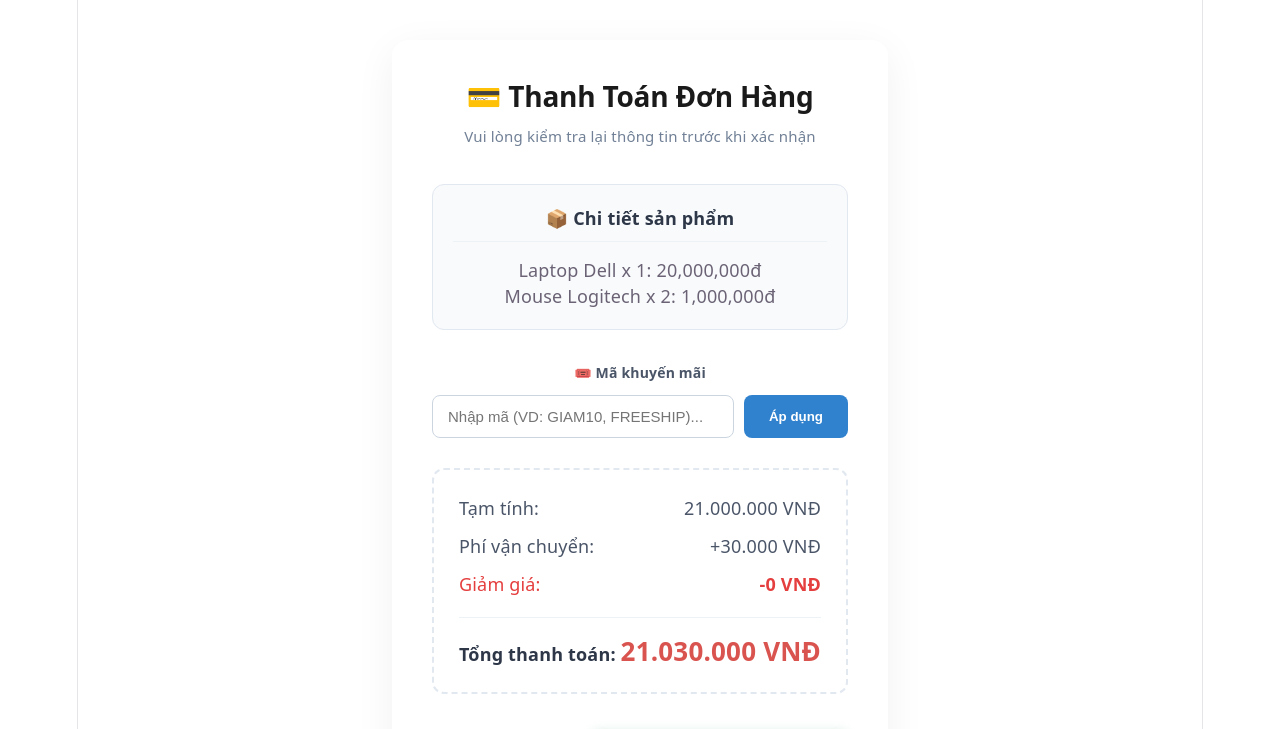
Test case: Checkout Integration Tests › TC8: Xử lý mã giảm giá không hợp lệ
This screenshot has width=1280, height=729.
Type "SAI_MA" into the field with placeholder "Nhập mã (VD: GIAM10, FREESHIP)..." at coordinates (583, 416), box 432,394 -> 734,438
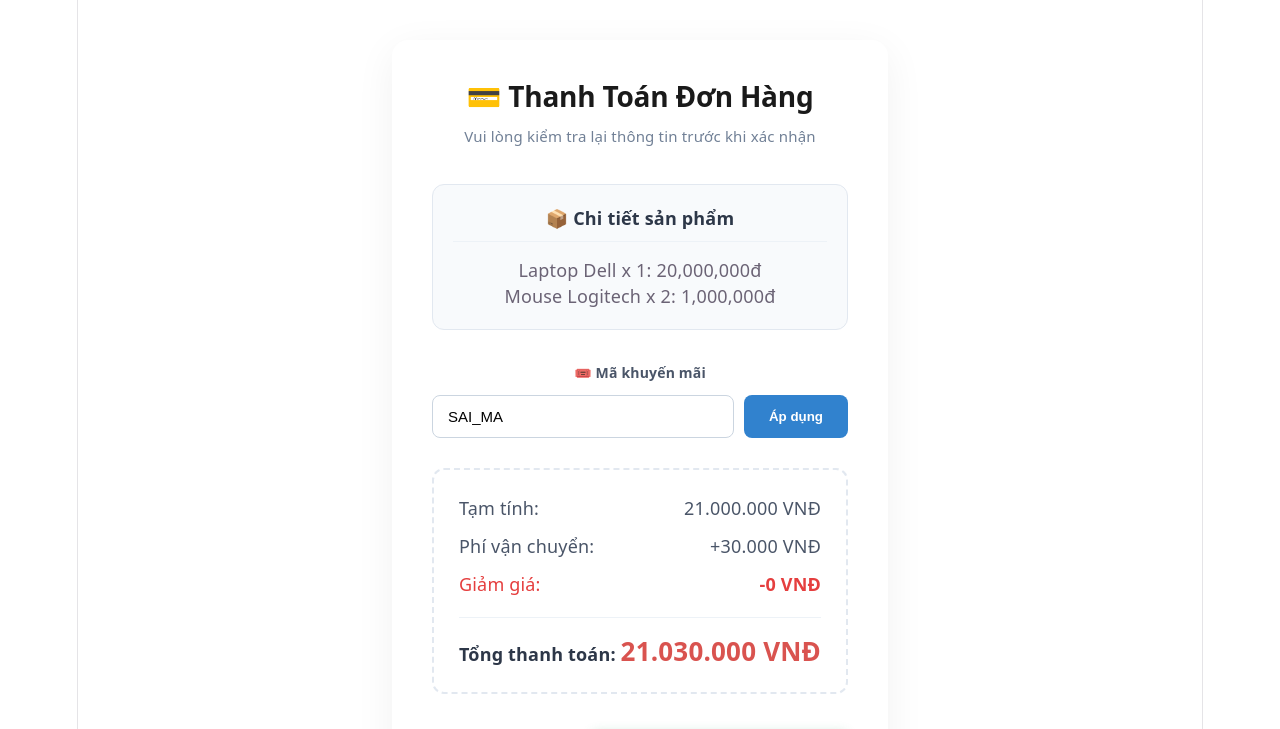
Click the button "Áp dụng" at coordinates (796, 416), box 744,394 -> 848,438
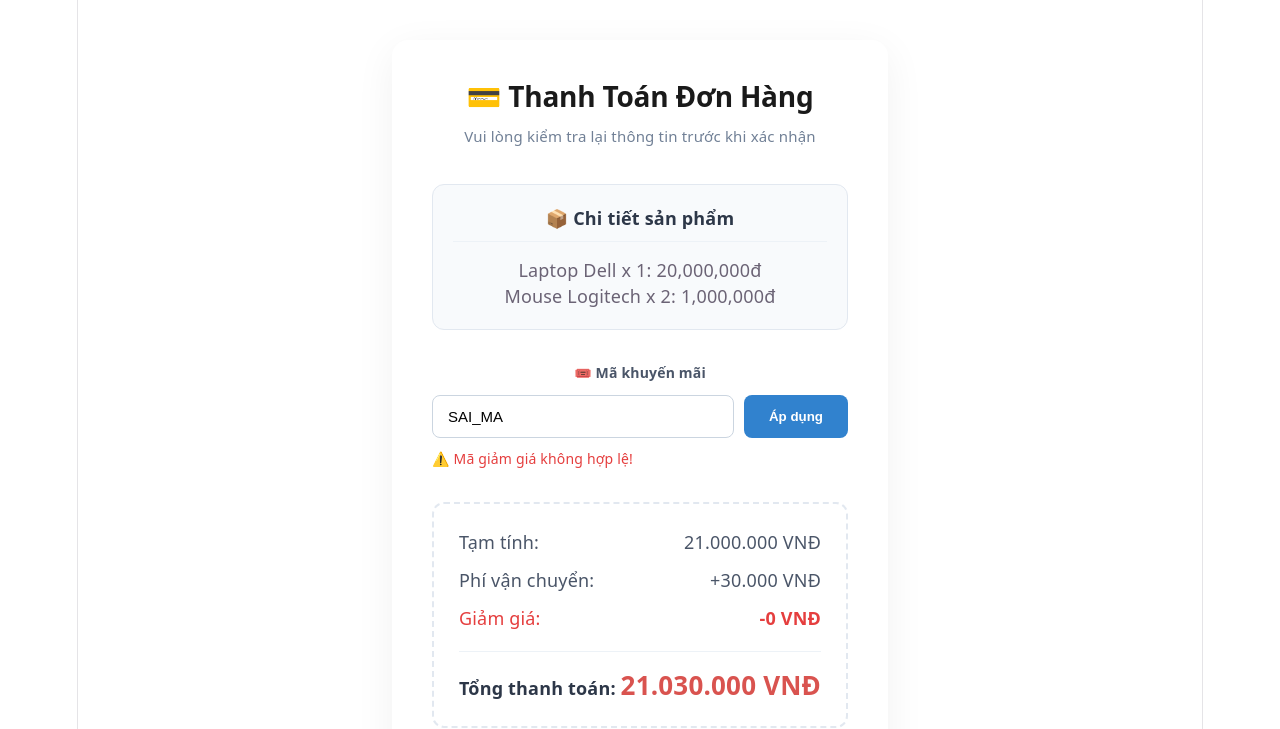
Check: the text with test id "discount-amount" reads "-0 VNĐ", box 759,605 -> 821,631
Check: the text "⚠️ Mã giảm giá không hợp lệ!" is shown, box 432,448 -> 633,468
